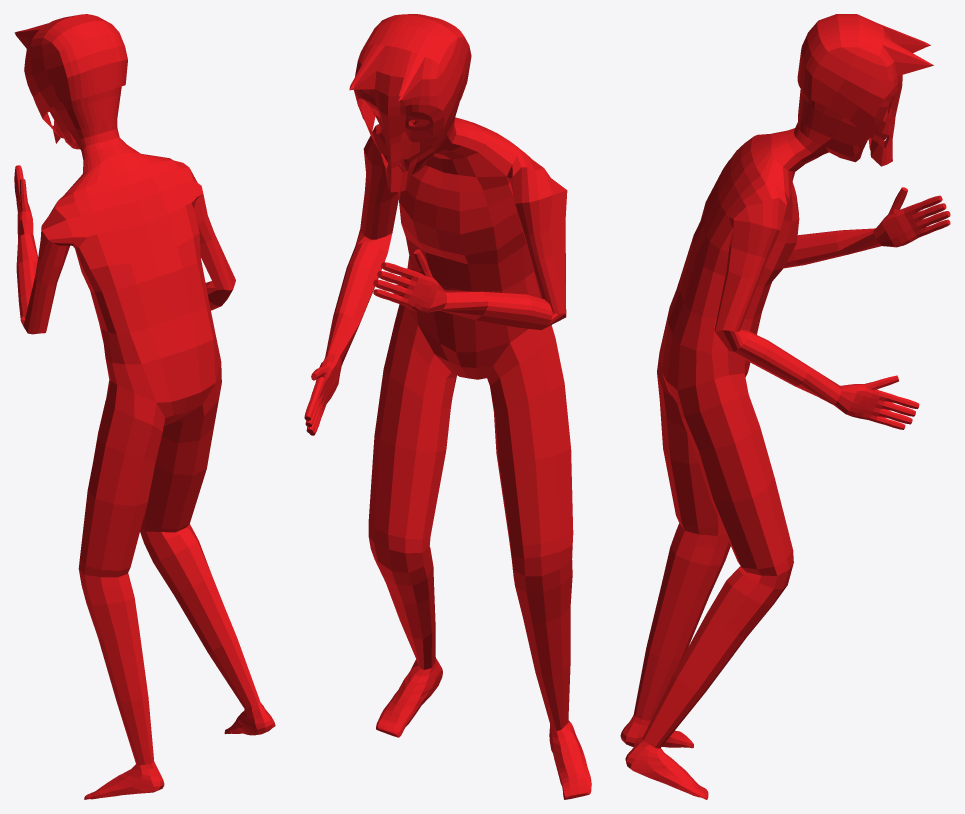
Rendered from correrE_000096.obj.
3 renders of one model, left to right at view 1: azimuth 30°, elevation 25°; view 2: azimuth 150°, elevation 25°; view 3: azimuth 270°, elevation 25°, orthographic. The views are drawn at different scales.
Visible parts, largest first — view 1: Plane.002_Plane.001; view 2: Plane.002_Plane.001; view 3: Plane.002_Plane.001.
Boxes of the visible parts, <box> form: Plane.002_Plane.001: <box>14,14,275,799</box>; Plane.002_Plane.001: <box>304,14,591,799</box>; Plane.002_Plane.001: <box>620,14,950,799</box>.
Bounding box in the file's own units: 1.95 × 6.81 × 2.7.
